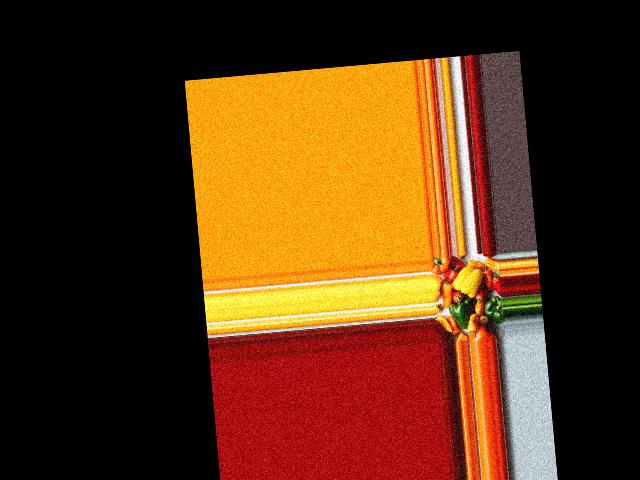bell_pepper: (488, 271, 503, 295)
